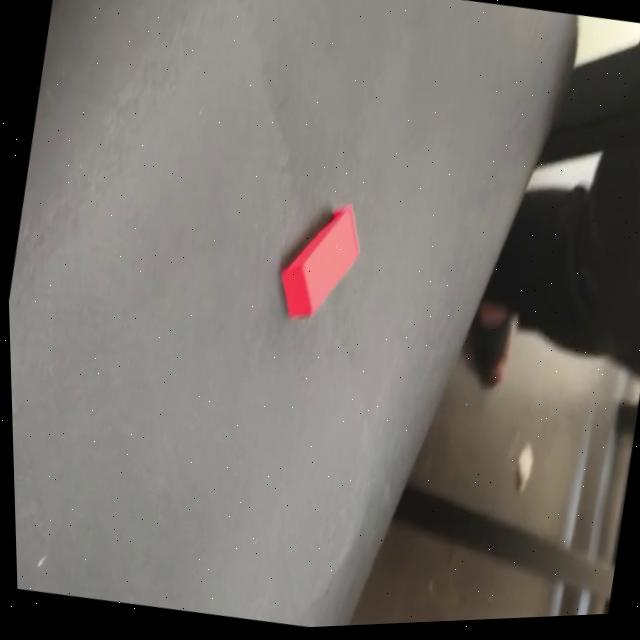red block: (270, 193, 370, 330)
